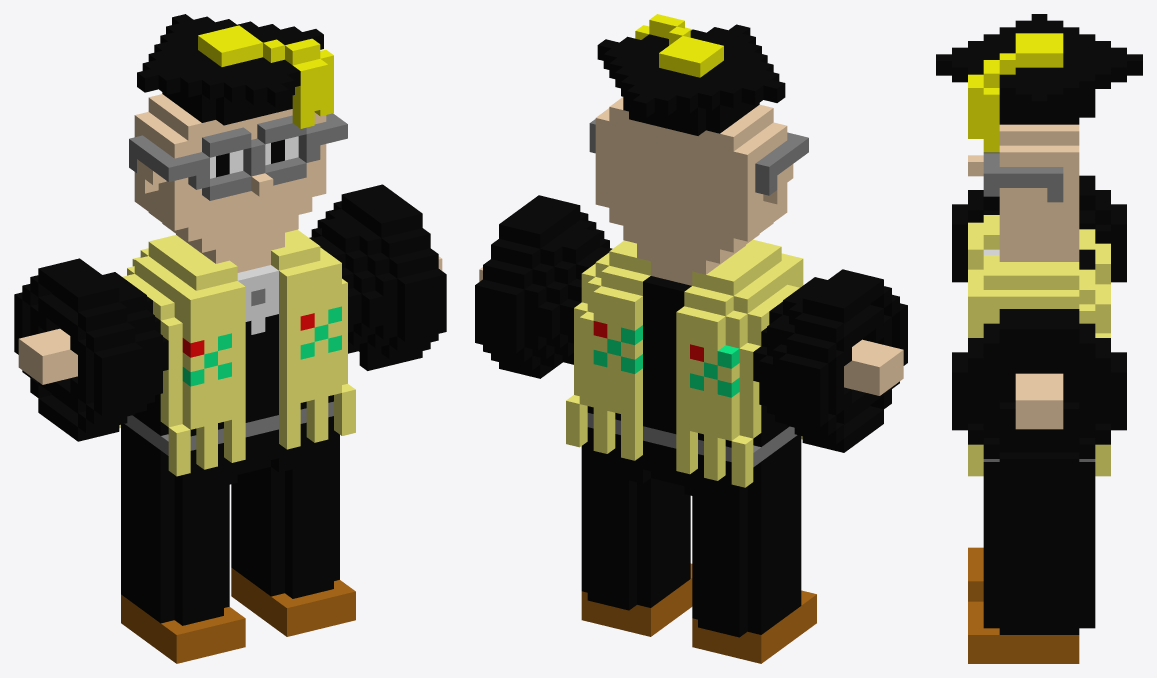
Rendered from gakutyou.glb.
3 renders of one model, left to right at view 1: azimuth 30°, elevation 25°; view 2: azimuth 150°, elevation 25°; view 3: azimuth 270°, elevation 25°, orthographic.
Visible parts, largest first — view 1: Untitled; view 2: Untitled; view 3: Untitled.
Part boxes in pixels (x1,y1,x2,y2): Untitled: [14, 14, 446, 663]; Untitled: [475, 14, 907, 663]; Untitled: [936, 14, 1142, 663].
Size of the model in its own units: 0.58 by 0.8 by 0.26.
1 material, 1 textured.
